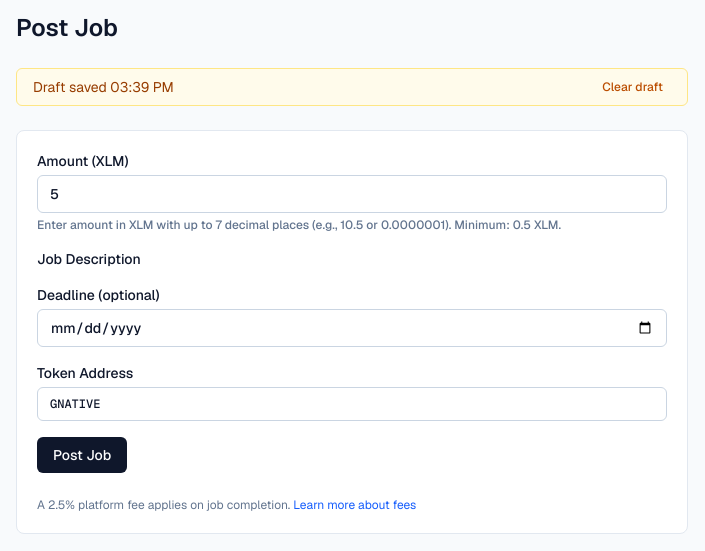
Test: Post-job form: draft saving (FE-71) › clears draft and resets form when 'Clear draft' is clicked
The image size is (705, 551).
What coordinates should you click on to do the following:
click the button "Clear draft"
I would click on:
 (633, 87)
Its box is [594,77,671,97].
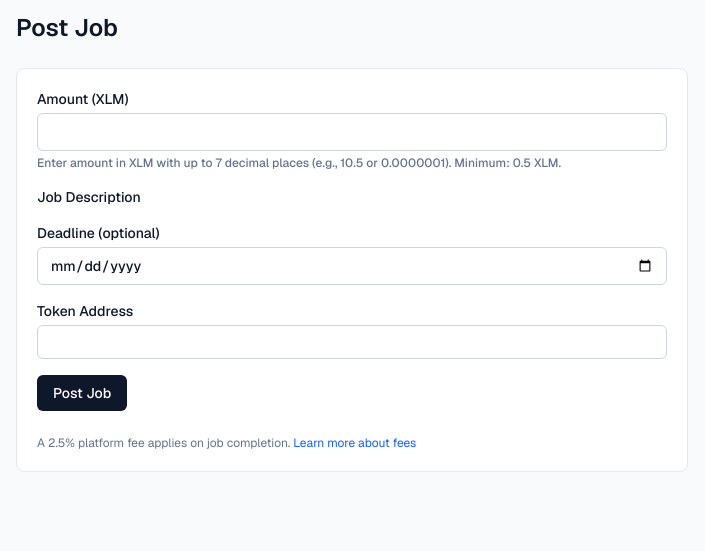
Now the button "Clear draft" is gone
